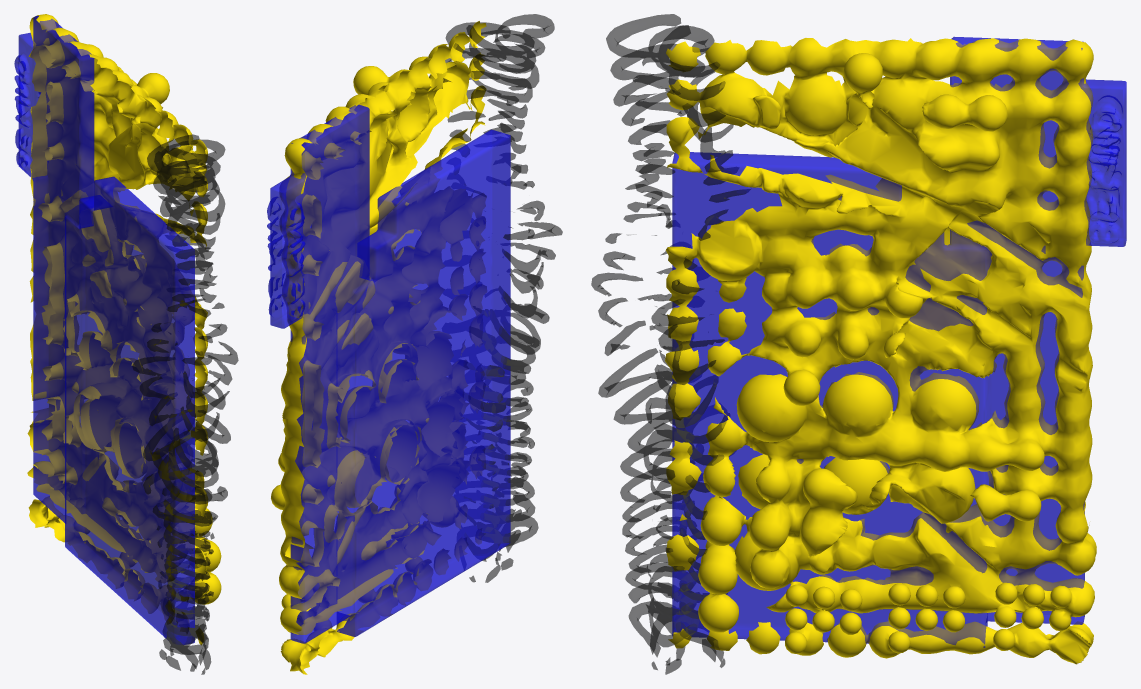
3 renders of one model, left to right at view 1: azimuth 30°, elevation 25°; view 2: azimuth 150°, elevation 25°; view 3: azimuth 270°, elevation 25°, orthographic. The views are drawn at different scales.
Parts seen in each view (by area): view 1: Layer_1, Layer_2, Layer_3002, Layer_3, Layer_3001; view 2: Layer_2, Layer_1, Layer_3, Layer_3002, Layer_3001; view 3: Layer_1, Layer_2, Layer_3002, Layer_3001, Layer_3.
Part boxes in pixels (bbox=[...]): Layer_1: bbox=[27, 14, 221, 644]; Layer_2: bbox=[14, 15, 194, 644]; Layer_3002: bbox=[154, 151, 229, 671]; Layer_3: bbox=[132, 134, 227, 674]; Layer_3001: bbox=[143, 139, 238, 659]; Layer_2: bbox=[267, 104, 510, 643]; Layer_1: bbox=[271, 21, 486, 674]; Layer_3: bbox=[466, 25, 543, 561]; Layer_3002: bbox=[483, 14, 562, 570]; Layer_3001: bbox=[443, 22, 510, 582]; Layer_1: bbox=[665, 38, 1096, 664]; Layer_2: bbox=[672, 36, 1126, 647]; Layer_3002: bbox=[591, 14, 703, 664]; Layer_3001: bbox=[651, 25, 750, 667]; Layer_3: bbox=[625, 26, 714, 674].
Bounding box in the file's own units: 0.3823 × 1.68 × 1.28.
